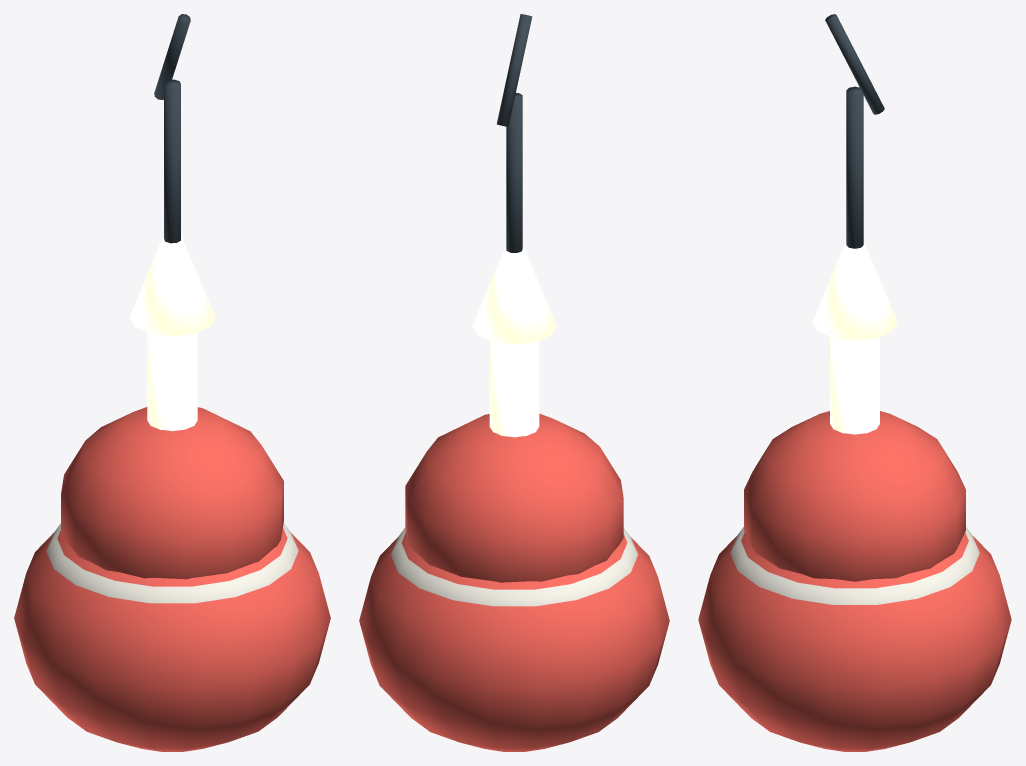
The model's file is xy_item_fishing_bobber.glb.
3 views of the same model, side by side, from view 1: azimuth 30°, elevation 25°; view 2: azimuth 150°, elevation 25°; view 3: azimuth 270°, elevation 25° (orthographic).
Parts seen in each view (by area): view 1: BobberRedLower, BobberRedUpper, BobberTipCap, BobberWhiteBand, BobberTip, BobberLine, LineHookStem; view 2: BobberRedLower, BobberRedUpper, BobberTipCap, BobberWhiteBand, BobberTip, BobberLine, LineHookStem; view 3: BobberRedLower, BobberRedUpper, BobberTipCap, BobberWhiteBand, BobberTip, BobberLine, LineHookStem.
Boxes of the visible parts, x1,y1,x2,y2 form: BobberRedLower: (14,528,330,751); BobberRedUpper: (61,407,283,579); BobberTipCap: (129,237,215,336); BobberWhiteBand: (46,523,298,603); BobberTip: (147,332,197,431); BobberLine: (164,79,180,243); LineHookStem: (154,14,190,99); BobberRedLower: (359,532,669,751); BobberRedUpper: (405,413,623,582); BobberTipCap: (472,247,556,344); BobberWhiteBand: (391,527,637,606); BobberTip: (489,340,539,437); BobberLine: (506,93,522,252); LineHookStem: (497,14,532,126); BobberRedLower: (698,532,1011,751); BobberRedUpper: (744,411,965,581); BobberTipCap: (812,243,897,340); BobberWhiteBand: (730,527,979,604); BobberTip: (830,337,879,434); BobberLine: (846,86,863,248); LineHookStem: (825,14,884,114).
Size of the model in its own units: 0.4333 by 1.12 by 0.44.
